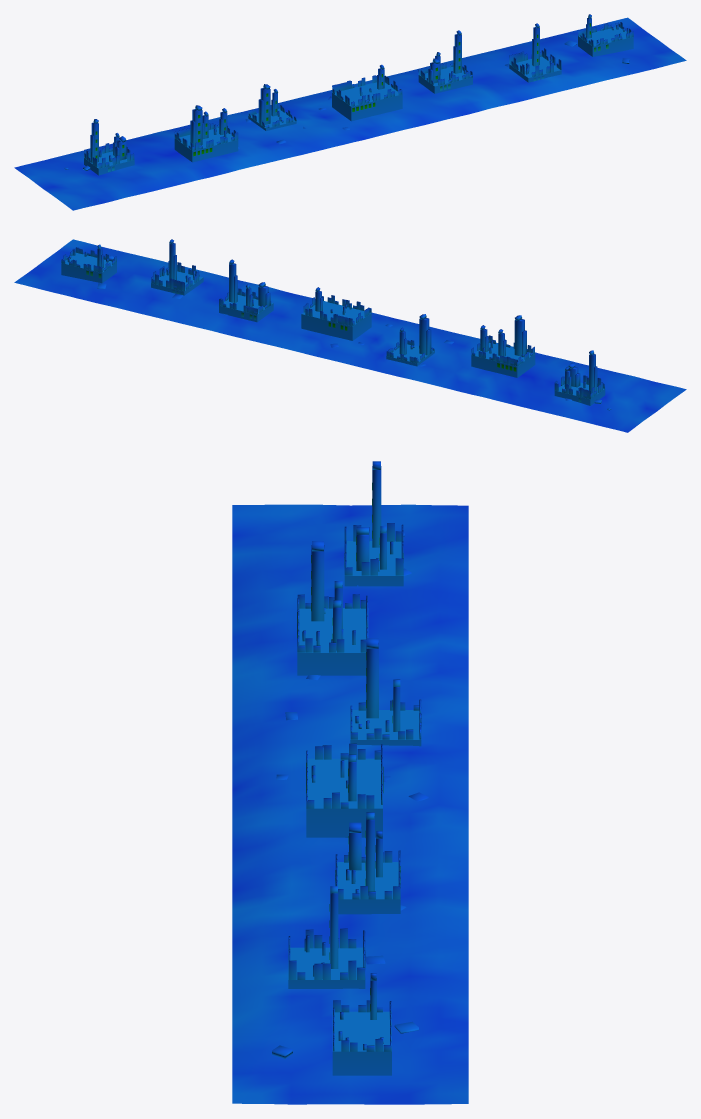
File: reef_edge_far.glb
The picture shows the model from 3 angles, top to bottom: view 1: azimuth 30°, elevation 25°; view 2: azimuth 150°, elevation 25°; view 3: azimuth 270°, elevation 25°; orthographic projection. The views are drawn at different scales.
Visible parts, largest first — view 1: reef_edge_far; view 2: reef_edge_far; view 3: reef_edge_far.
Part boxes in pixels (<box>): reef_edge_far: <box>14,14,686,210</box>; reef_edge_far: <box>14,239,686,432</box>; reef_edge_far: <box>232,461,468,1104</box>.
Size of what is drawn, in the model's own units: 240 by 19.99 by 40.
